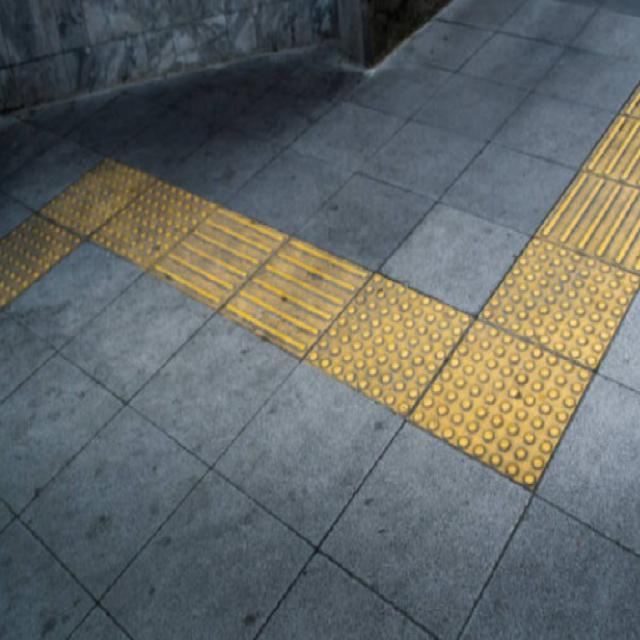tactile-guide-path: (306, 236, 639, 489), (0, 159, 218, 309), (156, 207, 370, 356), (539, 86, 639, 272)
